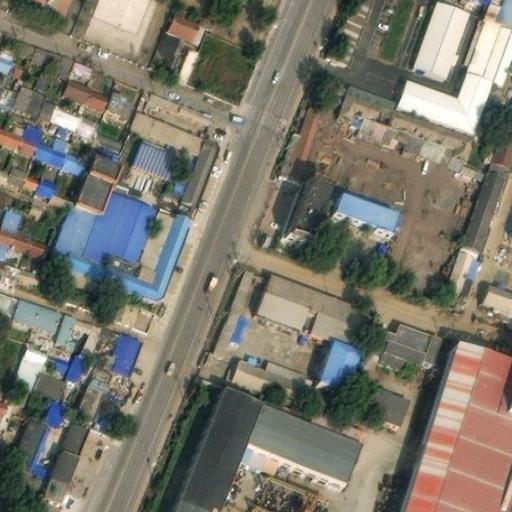building: (402, 334, 512, 512), (172, 384, 264, 512), (67, 212, 190, 293), (248, 403, 361, 479), (257, 266, 371, 339), (397, 62, 494, 128), (82, 186, 157, 267), (383, 101, 474, 165), (214, 257, 270, 352), (276, 95, 326, 179), (42, 412, 91, 496), (230, 351, 310, 402), (459, 163, 505, 249), (462, 0, 512, 77), (378, 315, 445, 372), (338, 78, 399, 137), (132, 104, 205, 150), (133, 204, 177, 275), (140, 84, 211, 128), (67, 420, 111, 491), (346, 370, 408, 417), (281, 173, 325, 239), (319, 331, 366, 390), (75, 146, 121, 206), (337, 184, 402, 226), (180, 132, 220, 200), (9, 401, 50, 465), (29, 409, 70, 472), (441, 243, 482, 302), (54, 306, 106, 348), (57, 195, 98, 248), (78, 357, 114, 411), (133, 135, 181, 174), (99, 327, 141, 369), (14, 292, 63, 328), (147, 27, 185, 70), (12, 342, 46, 389), (0, 486, 55, 512), (165, 5, 208, 37), (114, 291, 154, 322), (171, 44, 198, 82), (239, 439, 272, 470), (105, 83, 138, 114), (482, 277, 512, 310), (32, 366, 65, 396), (495, 108, 512, 161), (26, 84, 55, 114), (63, 344, 90, 376), (61, 71, 92, 98), (49, 98, 81, 124), (40, 349, 68, 374), (34, 60, 58, 89), (11, 78, 34, 108), (92, 124, 123, 145), (86, 80, 111, 105), (75, 108, 100, 131), (62, 146, 87, 169), (166, 168, 188, 194), (2, 204, 24, 228), (27, 234, 51, 255), (31, 135, 53, 156), (18, 261, 42, 280), (11, 228, 33, 248), (0, 258, 20, 280), (50, 181, 73, 200), (0, 43, 15, 71), (4, 124, 24, 145), (48, 141, 68, 161), (18, 130, 37, 150), (35, 175, 54, 193), (20, 169, 39, 187), (24, 119, 44, 136), (52, 131, 72, 146), (7, 165, 24, 181), (0, 120, 10, 139)
